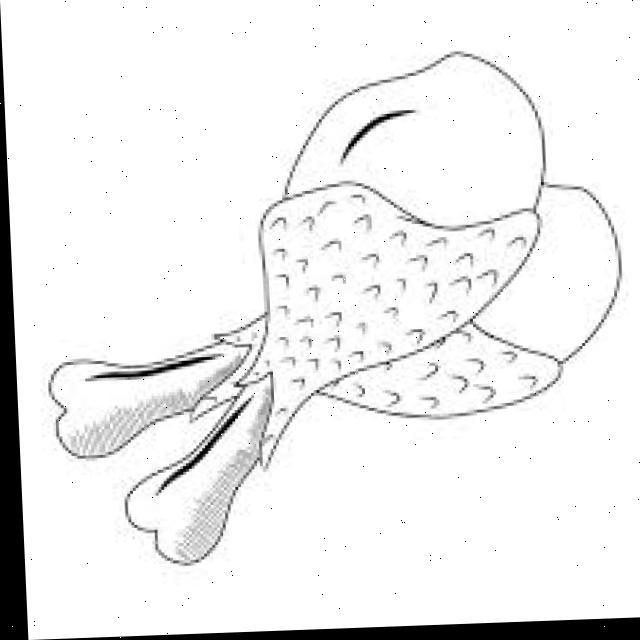leg: (144, 63, 554, 586), (45, 170, 634, 460)
